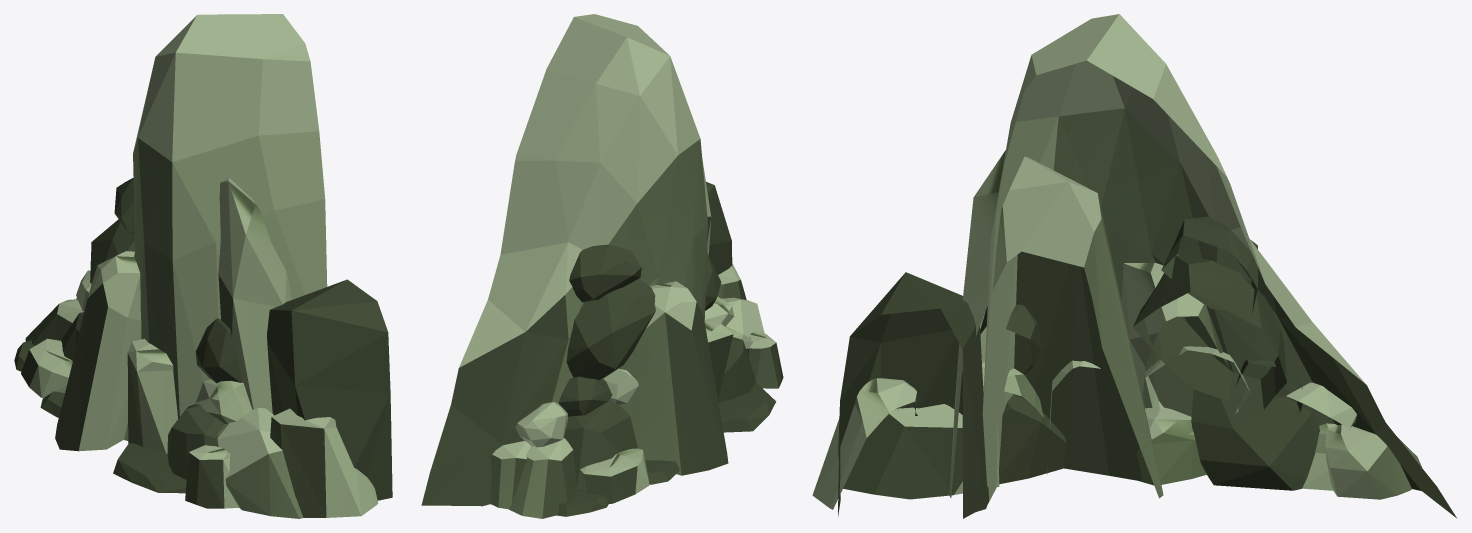
File: EA_Swamp_Wall_02b.glb
The picture shows the model from 3 angles, left to right: view 1: azimuth 30°, elevation 25°; view 2: azimuth 150°, elevation 25°; view 3: azimuth 270°, elevation 25°; orthographic projection. The views are drawn at different scales.
Parts seen in each view (by area): view 1: EA_Swamp_Wall_02b; view 2: EA_Swamp_Wall_02b; view 3: EA_Swamp_Wall_02b.
Boxes of the visible parts, bbox=[...] form: EA_Swamp_Wall_02b: bbox=[14, 14, 392, 518]; EA_Swamp_Wall_02b: bbox=[421, 14, 783, 518]; EA_Swamp_Wall_02b: bbox=[812, 14, 1456, 518].
Bounding box in the file's own units: 5.72 × 11.46 × 14.18.
Materials: 1 (1 with a texture image).
